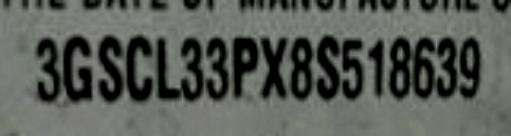letter: (60, 33, 98, 101), (257, 34, 291, 100), (95, 31, 126, 103), (123, 31, 154, 103), (152, 34, 183, 100), (228, 34, 259, 100), (31, 35, 62, 101), (314, 31, 342, 99), (203, 34, 231, 102), (285, 34, 313, 100), (413, 31, 438, 99), (387, 34, 412, 100), (435, 34, 460, 100), (457, 34, 482, 100), (177, 34, 202, 100), (339, 37, 364, 99), (364, 37, 386, 99)
